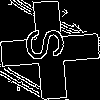S: (25, 25, 74, 62)
